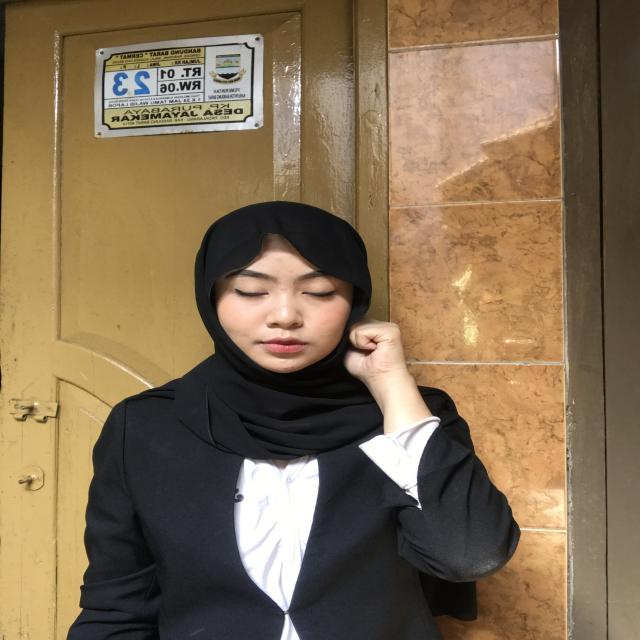ibu: (317, 307, 450, 431)
